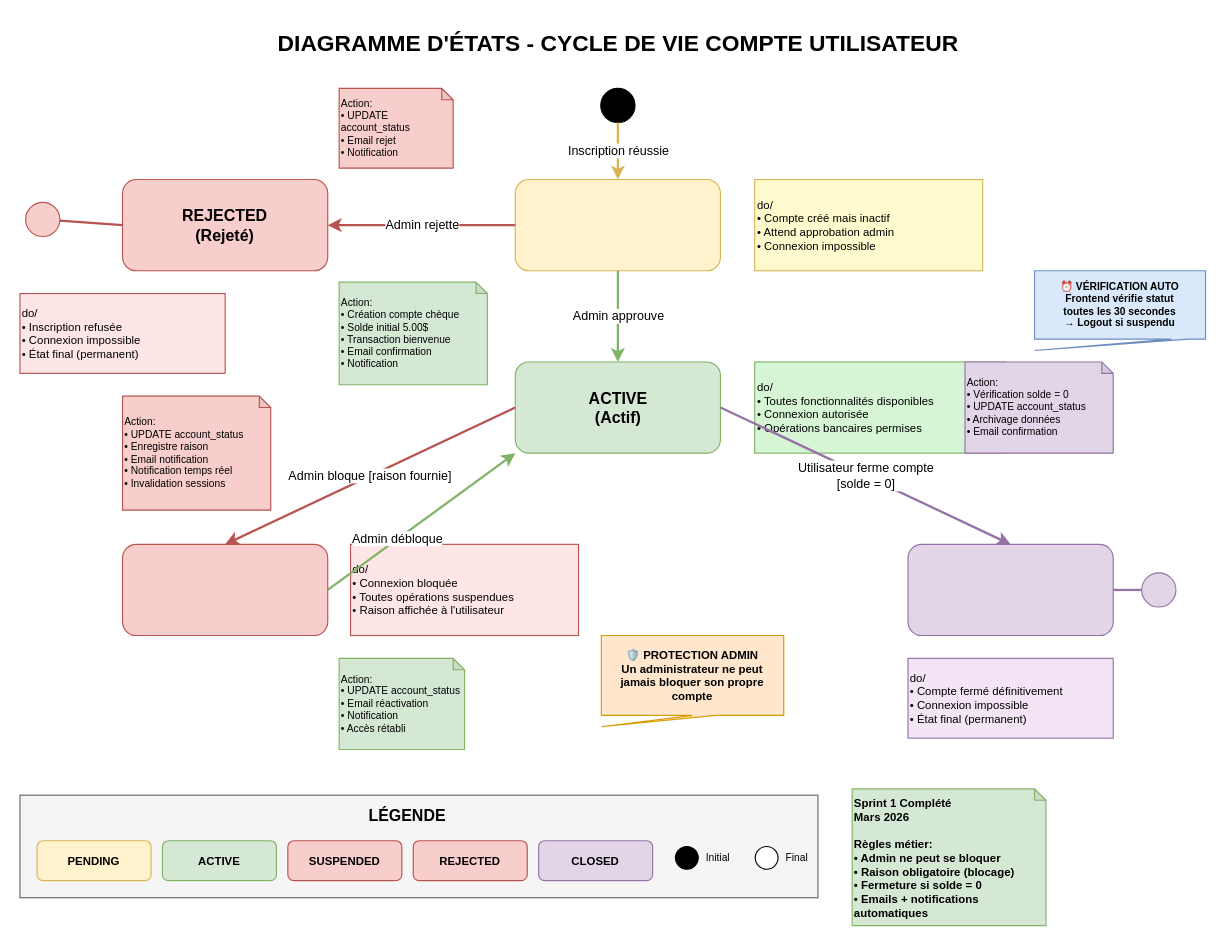
This 1226x945 diagram has some shape labels left out. The centre of each missing label's shape, as x and y in pixels:
CLOSED (Fermé): point 1010,589
PENDING (En attente): point 617,224
SUSPENDED (Suspendu): point 224,589
